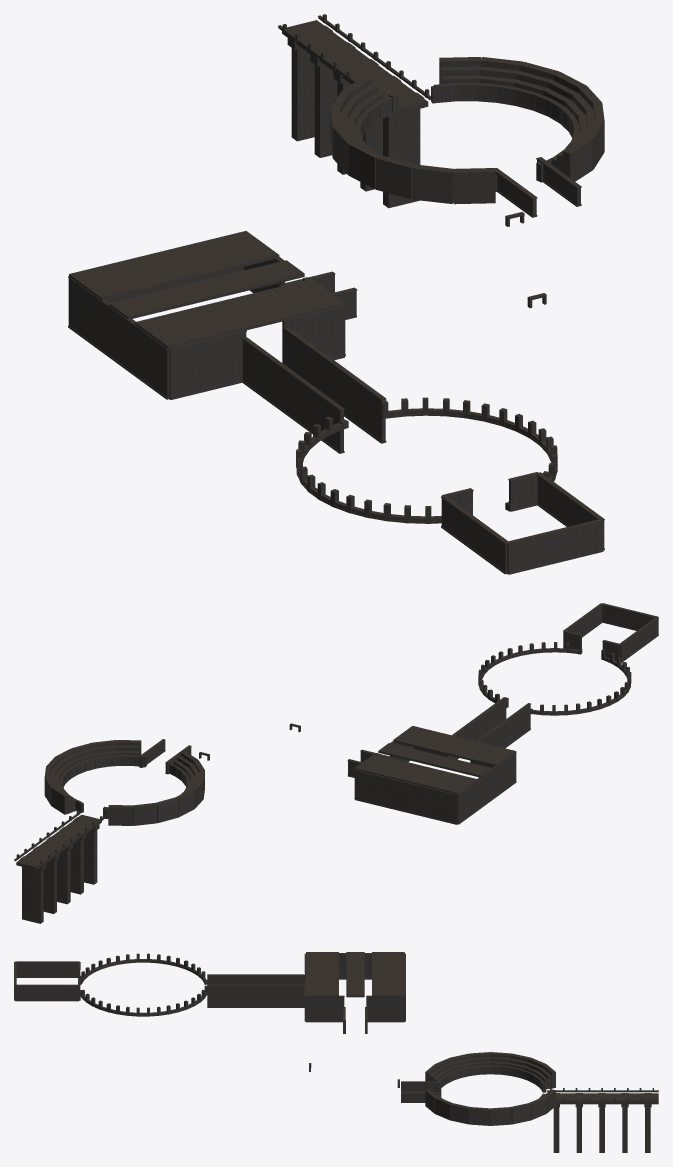
File: dress_masonry.glb
3 views of the same model, one above another, from view 1: azimuth 30°, elevation 25°; view 2: azimuth 150°, elevation 25°; view 3: azimuth 270°, elevation 25° (orthographic). The views are drawn at different scales.
Visible parts, largest first — view 1: dress_masonry; view 2: dress_masonry; view 3: dress_masonry.
Part boxes in pixels (left/top/right/bottom): dress_masonry: left=68, top=14, right=604, bottom=574; dress_masonry: left=14, top=603, right=658, bottom=923; dress_masonry: left=14, top=952, right=658, bottom=1152.
Bounding box in the file's own units: 392 × 97.7 × 706.
Materials: 2 (2 with a texture image).
